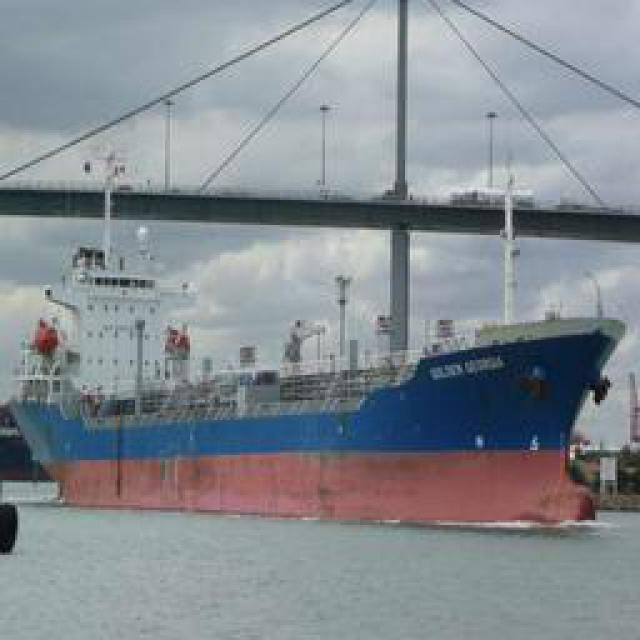Ship: (8, 260, 626, 531)
